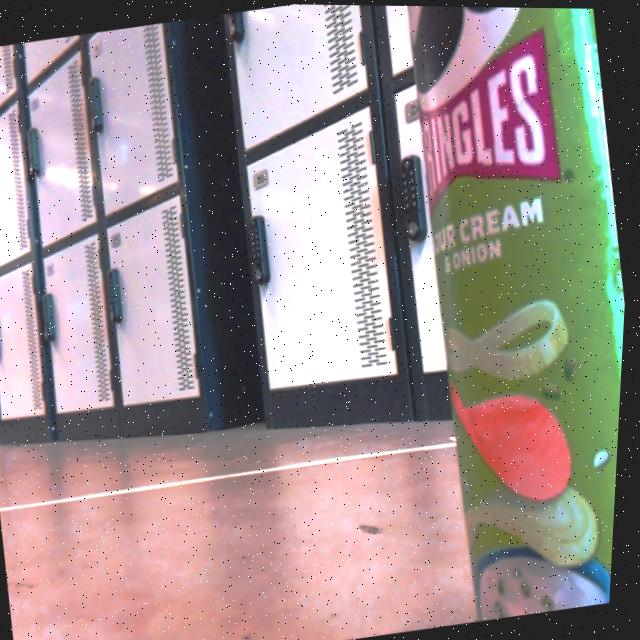greenpringles: (346, 4, 640, 627)
